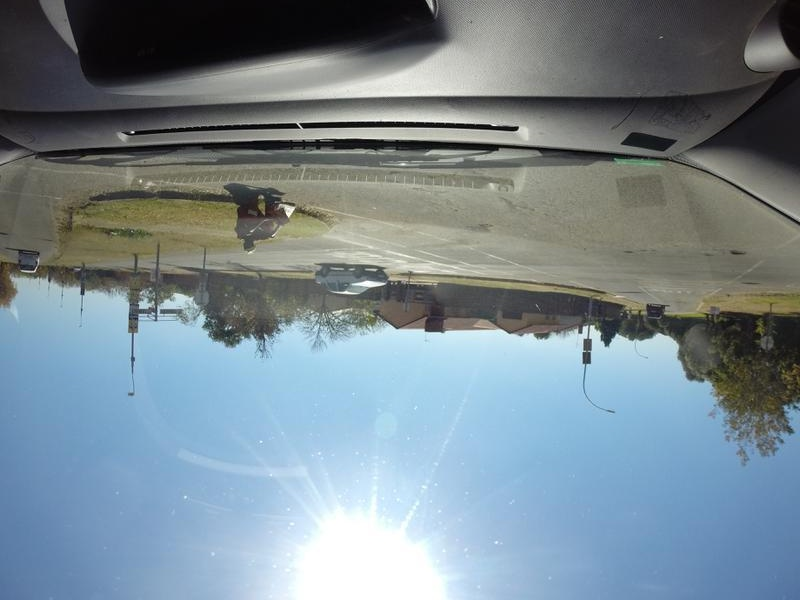pothole: (727, 240, 748, 259), (737, 280, 764, 290)
